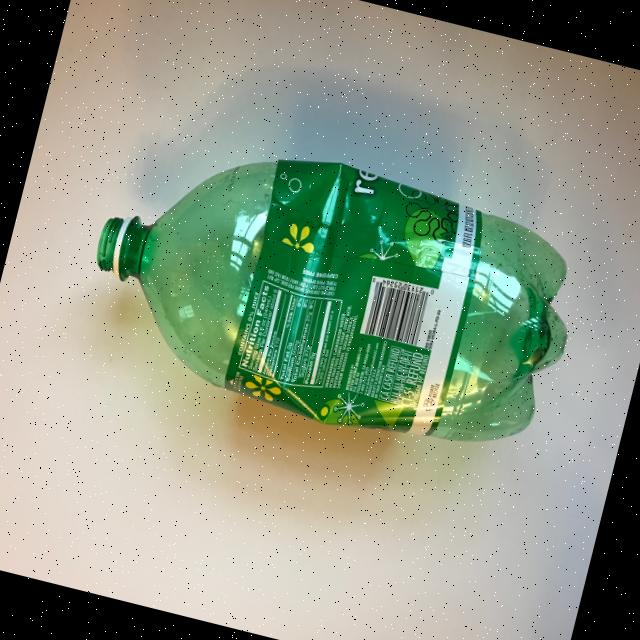plastic: (69, 109, 596, 476)
